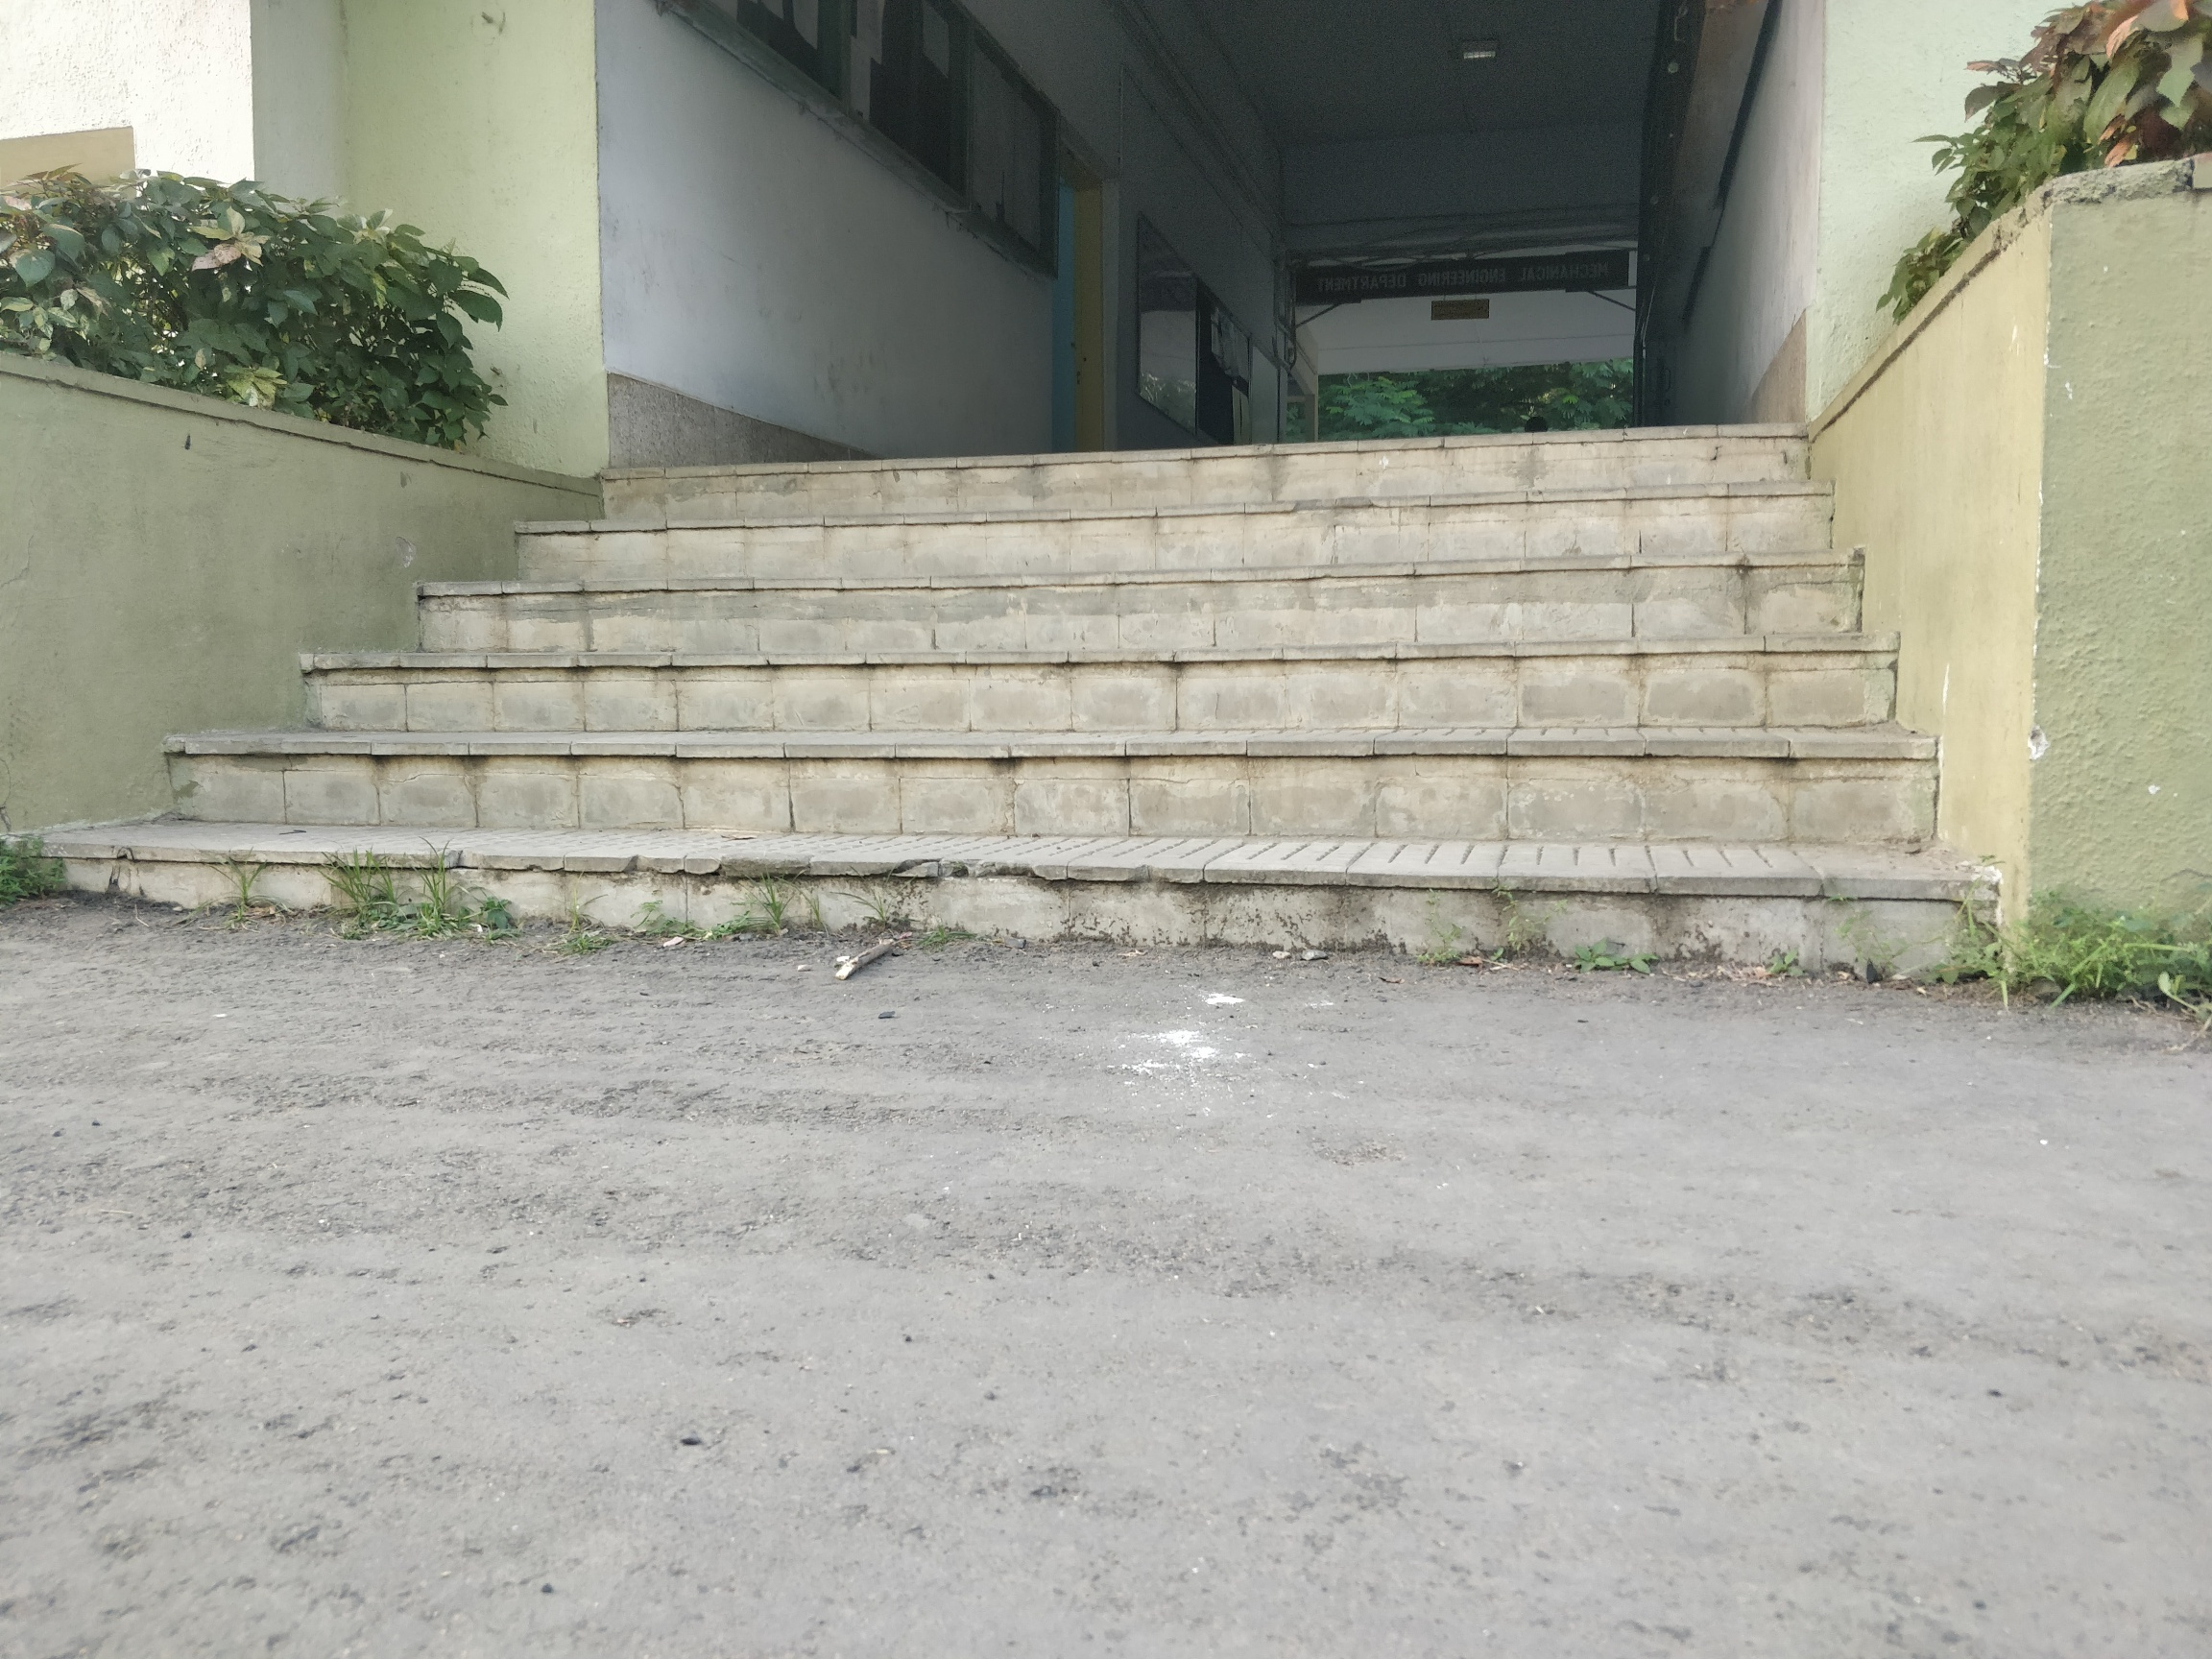stairs_up: (2, 410, 1991, 999)
